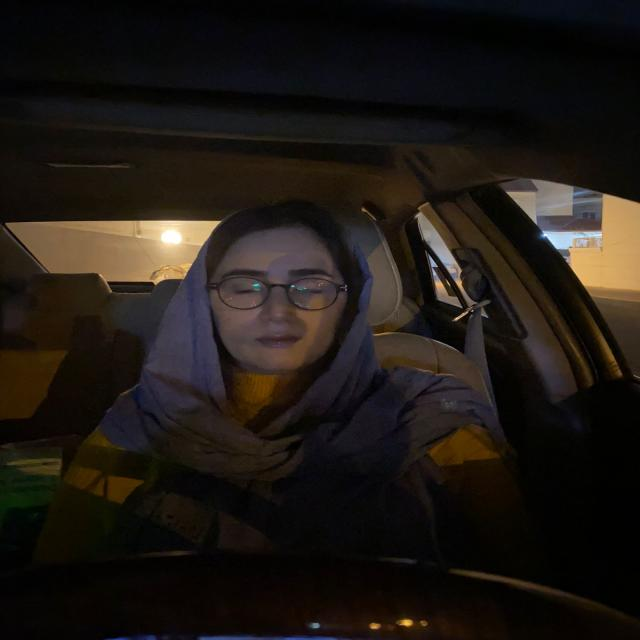drowsy: (193, 198, 370, 376)
